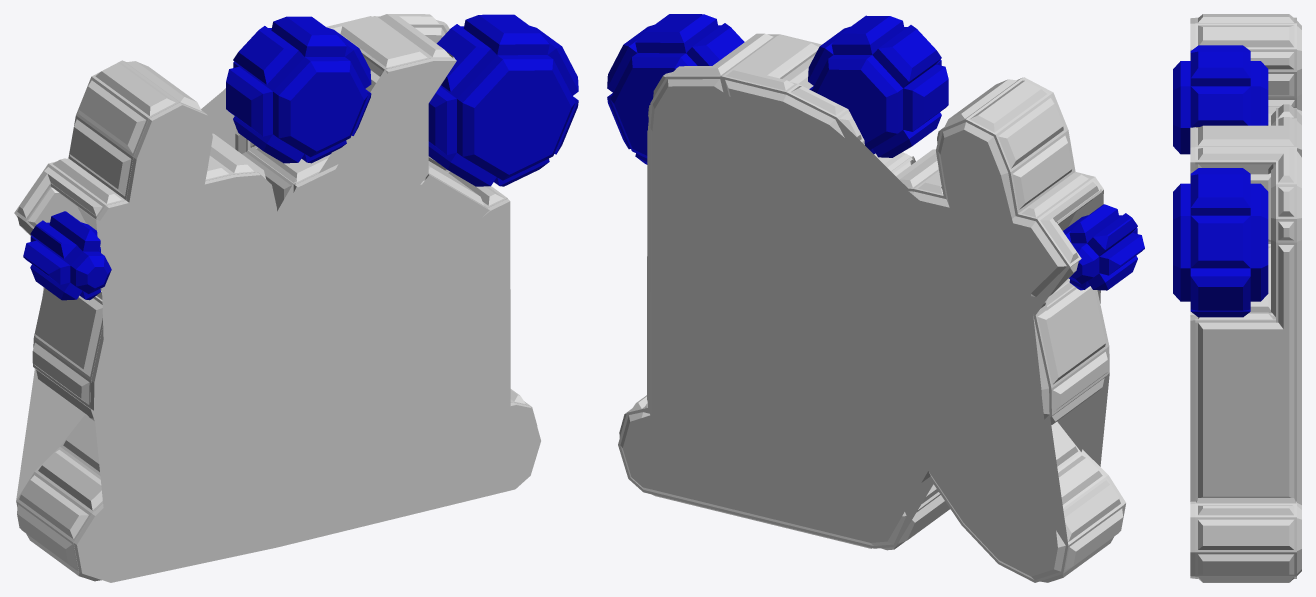
Rendered from Ch_China_姐_01.fbx.
3 renders of one model, left to right at view 1: azimuth 30°, elevation 25°; view 2: azimuth 150°, elevation 25°; view 3: azimuth 270°, elevation 25°, orthographic. The views are drawn at different scales.
Parts seen in each view (by area): view 1: sphere1; view 2: sphere1; view 3: sphere1.
Boxes of the visible parts, x1,y1,x2,y2 form: sphere1: (14, 14, 578, 582); sphere1: (607, 14, 1144, 582); sphere1: (1173, 14, 1301, 582).
Size of the model in its own units: 1.06 by 0.9704 by 0.2541.
